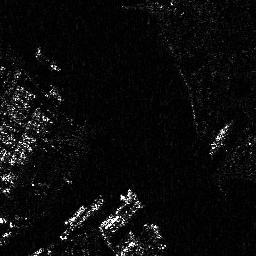ship: (33, 47, 62, 71), (66, 205, 86, 224)
